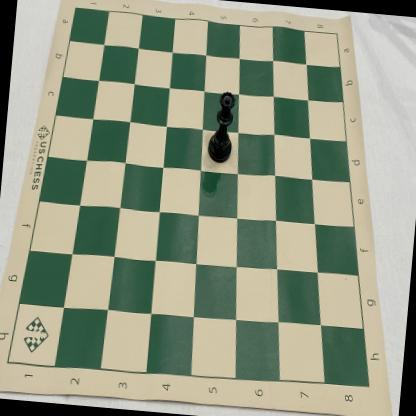black-queen: (206, 90, 238, 166)
